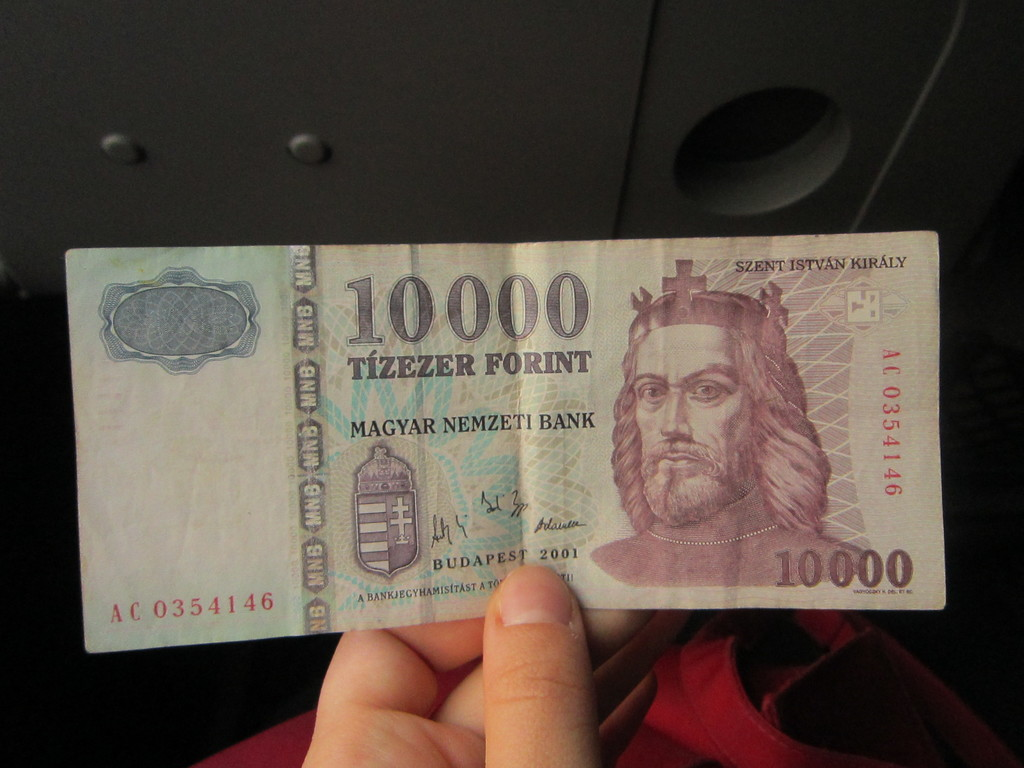Human_hand: (376, 578, 618, 757)
